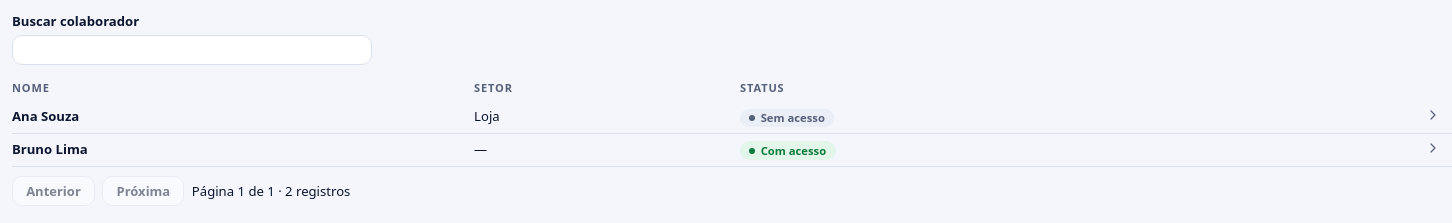
it: lista de colaboradores › a busca acha pelo cargo, mesmo oculto
In the search field labelled "Buscar colaborador": x=192, y=50 [12, 34, 372, 64], type "caixa"
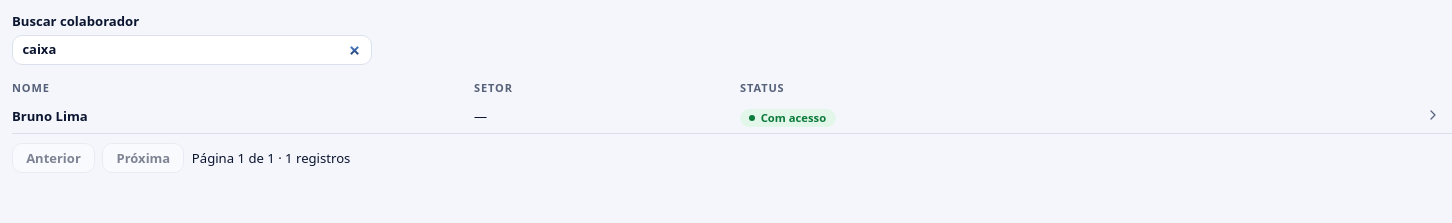
Expected: the link "Bruno Lima" is shown, [12, 107, 88, 125]
Result: the link "Ana Souza" is gone
